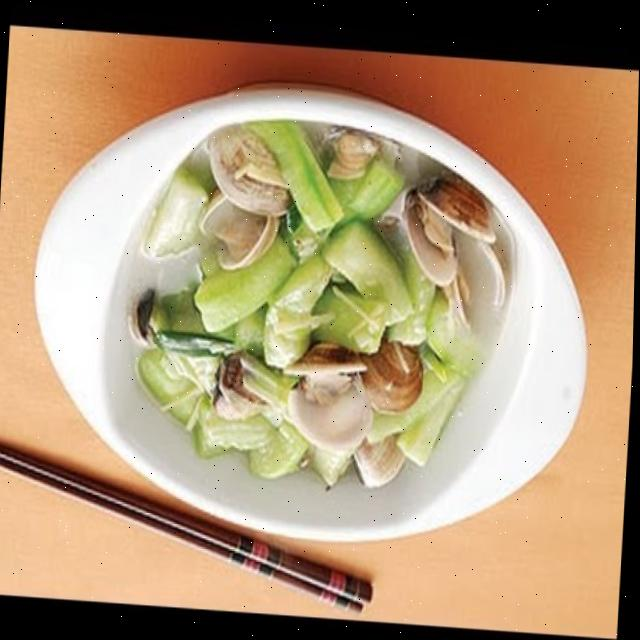Wet: (118, 138, 470, 499)
